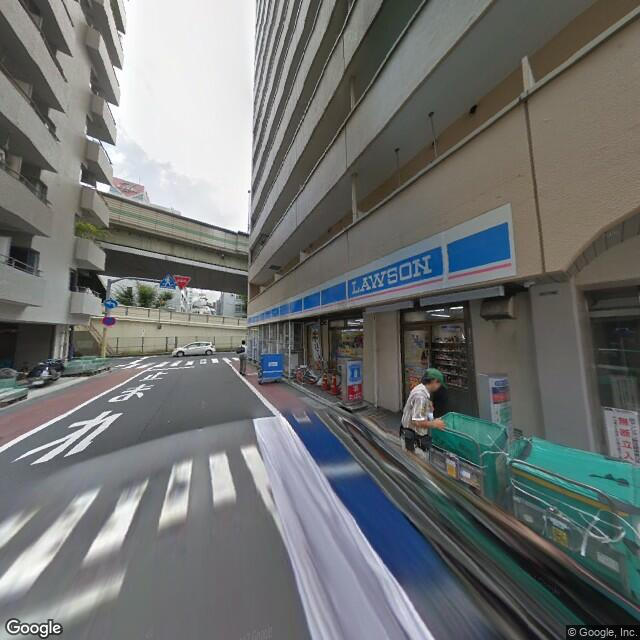lawson: (245, 203, 514, 326)
